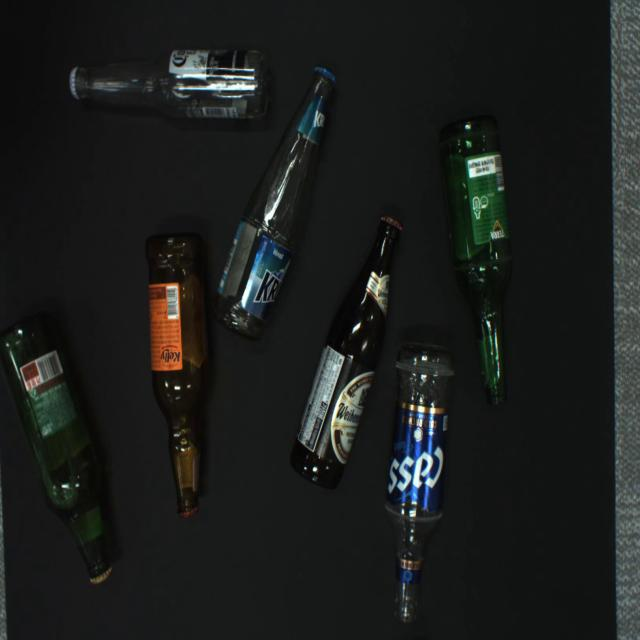beer-bottle: (212, 66, 337, 341), (0, 312, 114, 586), (290, 216, 403, 490), (438, 114, 512, 407), (384, 343, 454, 624), (145, 232, 212, 518), (69, 50, 271, 119)
